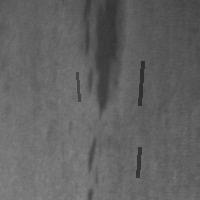inclusion: (82, 1, 123, 120), (81, 134, 104, 198), (137, 59, 144, 107), (135, 145, 141, 179), (75, 70, 81, 103)
